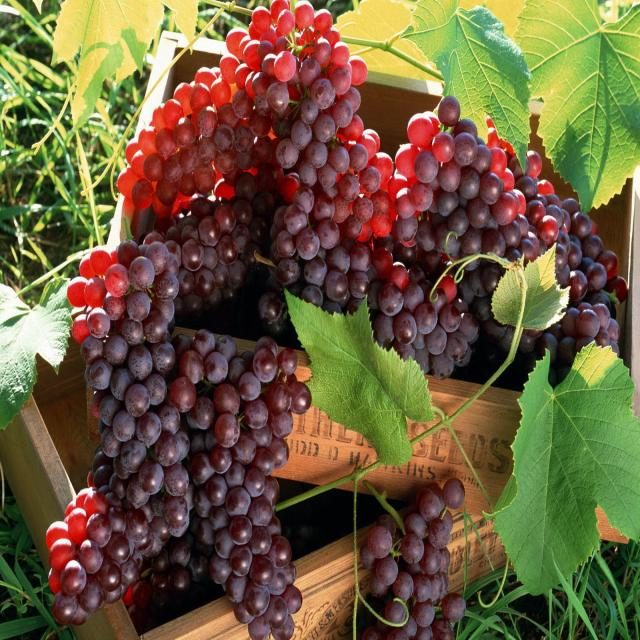Grapes: (41, 245, 195, 640), (156, 307, 337, 633), (113, 18, 363, 226), (262, 208, 462, 418), (514, 146, 630, 407), (385, 101, 536, 283), (335, 458, 469, 640)
